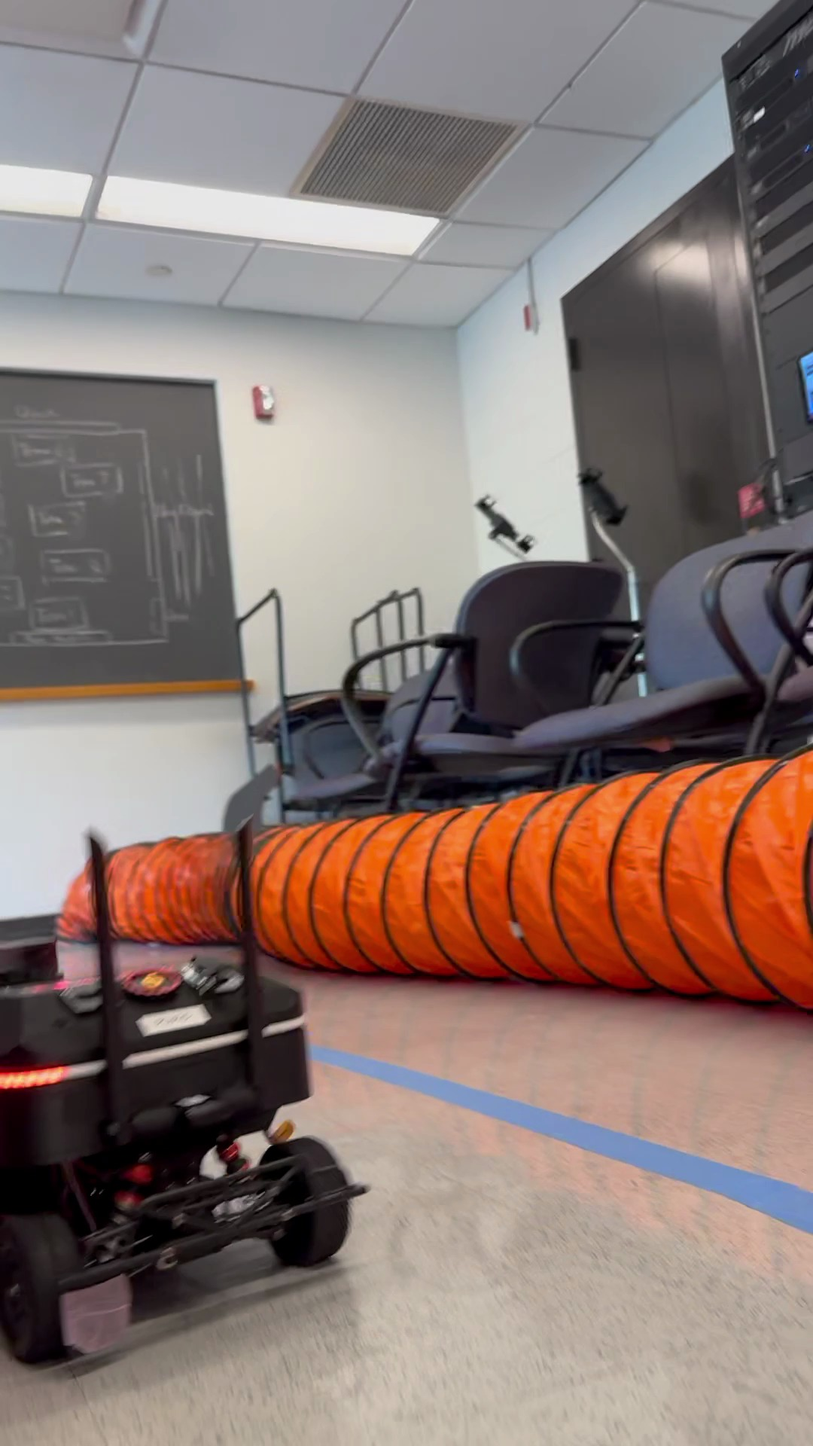racecar: (6, 831, 365, 1369)
